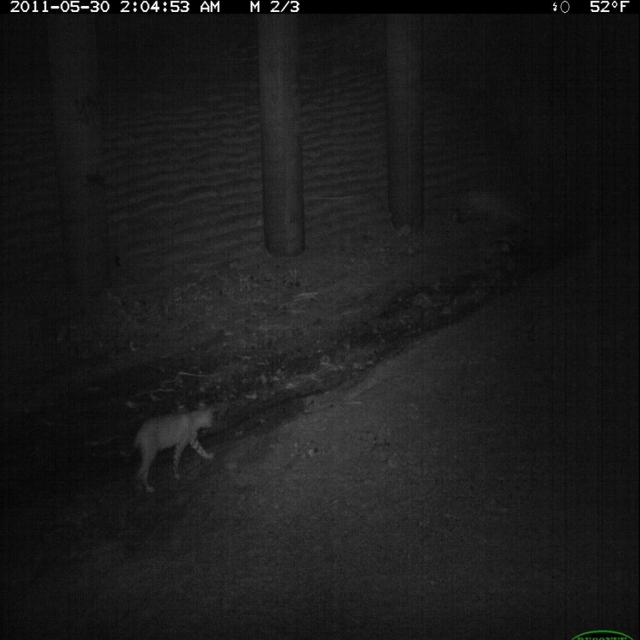bobcat: (130, 396, 220, 500)
